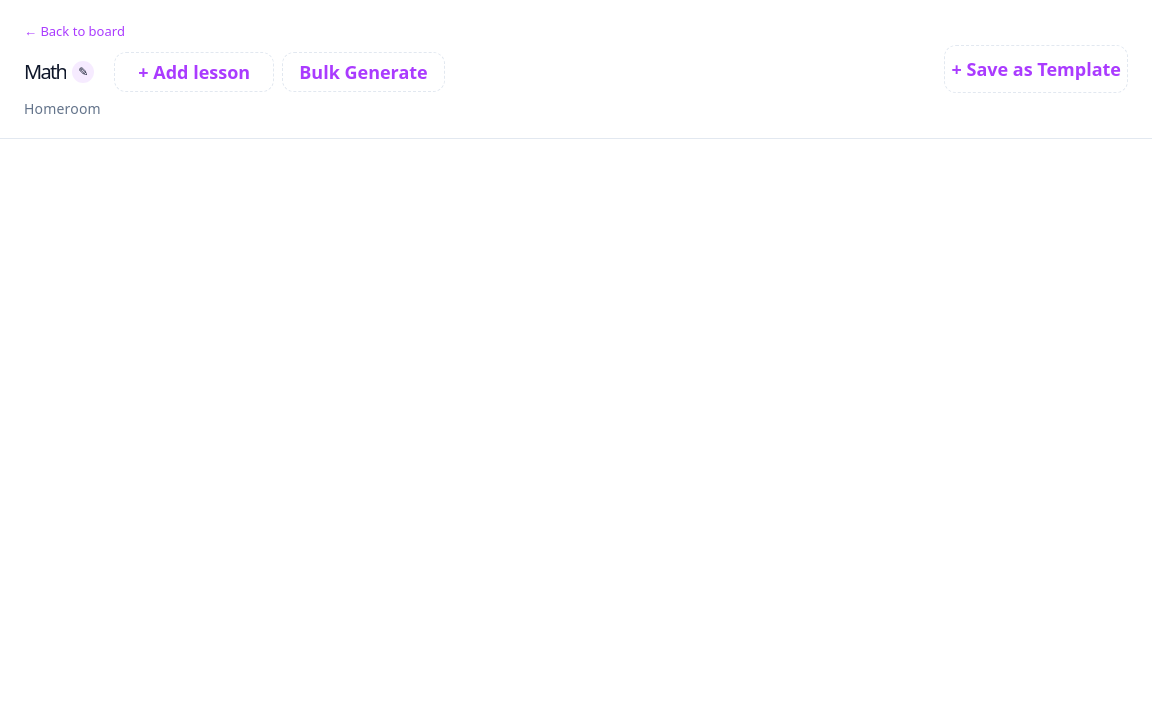
Test: Curriculum › opens the Bulk Generate dialog with Units and Lessons per unit inputs
This screenshot has width=1152, height=720.
Click the button "Bulk Generate".
click(363, 72)  # box top-left (282, 52), bottom-right (445, 92)
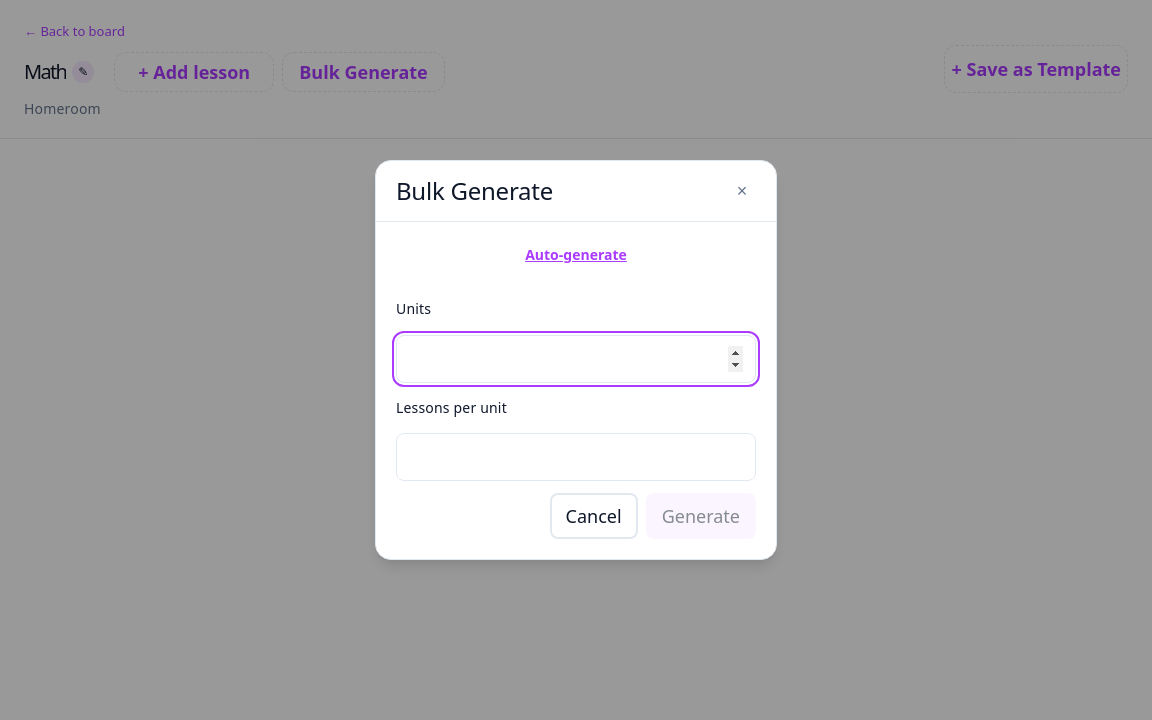
Check: the dialog is shown, box top-left (375, 160), bottom-right (777, 560)
Check: the number field labelled "Units" is shown, box top-left (396, 335), bottom-right (756, 383)
Check: the number field labelled "Lessons per unit" is shown, box top-left (396, 433), bottom-right (756, 481)
